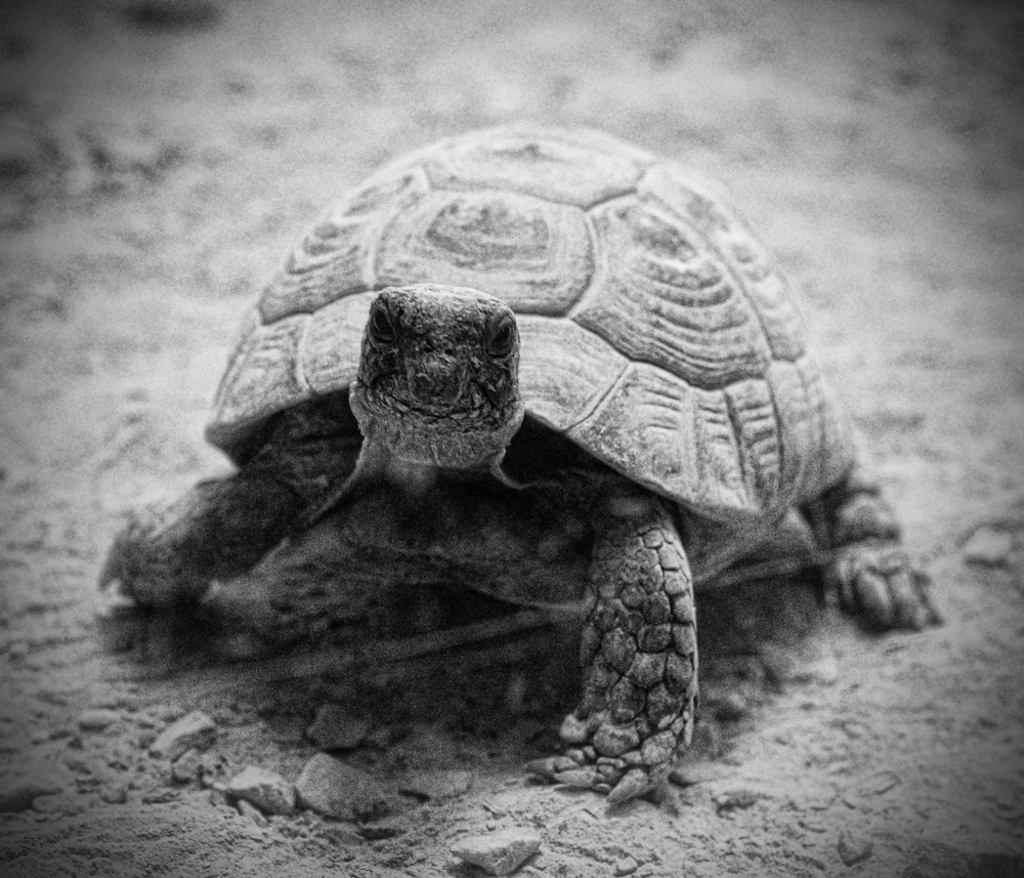Sea turtles: (82, 119, 944, 806)
